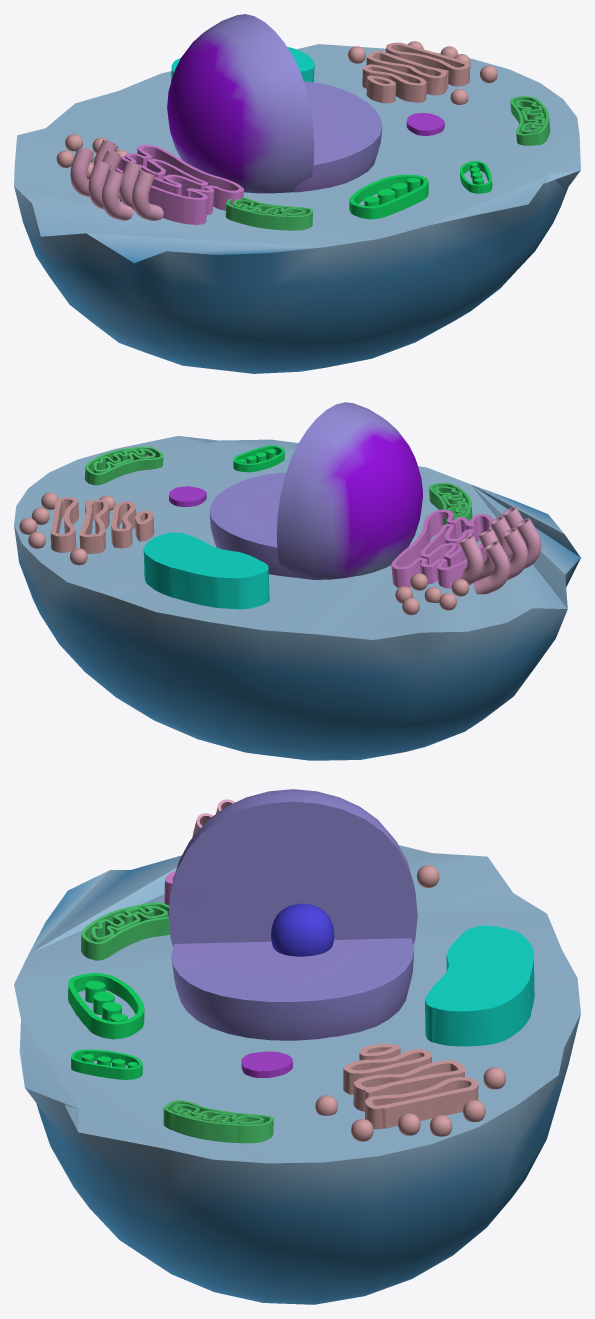
File: modelo.glb
3 views of the same model, one above another, from view 1: azimuth 30°, elevation 25°; view 2: azimuth 150°, elevation 25°; view 3: azimuth 270°, elevation 25° (orthographic). The views are drawn at different scales.
Parts seen in each view (by area): view 1: Object_2; view 2: Object_2; view 3: Object_2.
Boxes of the visible parts, x1,y1,x2,y2 form: Object_2: (14,14,580,373); Object_2: (14,402,580,760); Object_2: (14,789,580,1304).
Size of the model in its own units: 130 by 79.47 by 95.27.
